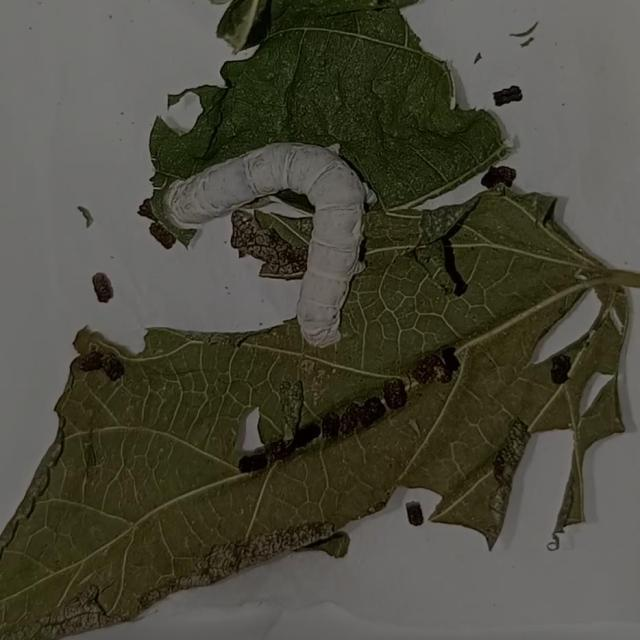Healthy: (142, 117, 388, 368)
